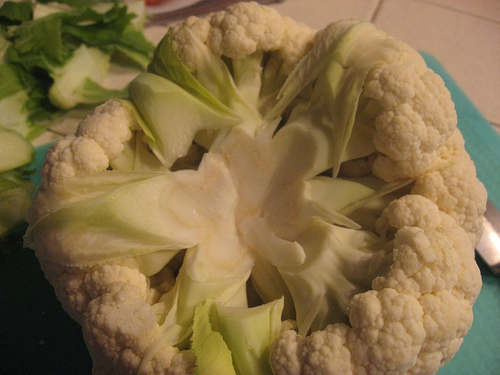cauliflower: (21, 1, 486, 374)
